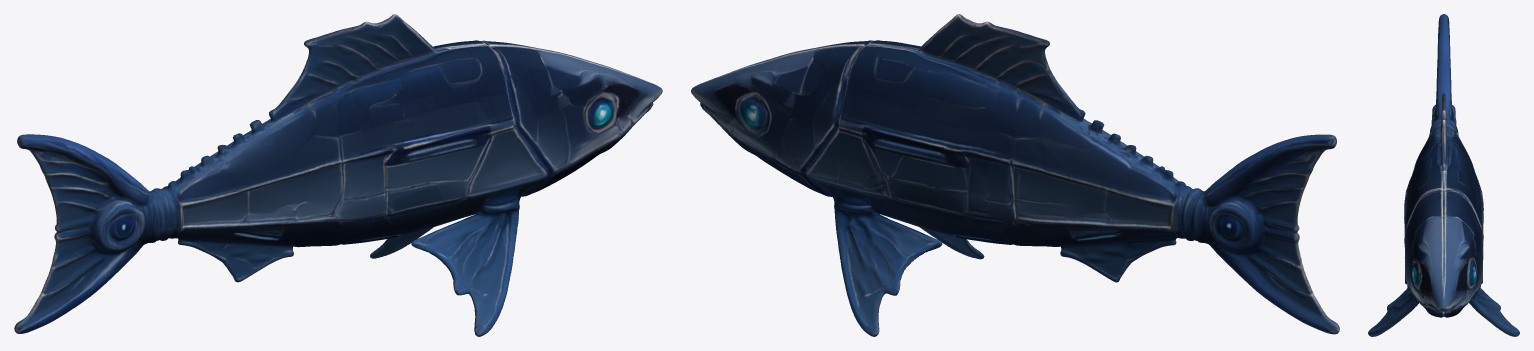
Rendered from fish-model.glb.
The picture shows the model from 3 angles, left to right: view 1: azimuth 30°, elevation 25°; view 2: azimuth 150°, elevation 25°; view 3: azimuth 270°, elevation 25°; orthographic projection. The views are drawn at different scales.
Visible parts, largest first — view 1: world; view 2: world; view 3: world.
Boxes of the visible parts, x1=… form: world: x1=14, y1=14, x2=662, y2=336; world: x1=691, y1=14, x2=1339, y2=336; world: x1=1368, y1=14, x2=1519, y2=336.
Bounding box in the file's own units: 1 × 0.4309 × 0.2907.
Materials: 1 (1 with a texture image).
